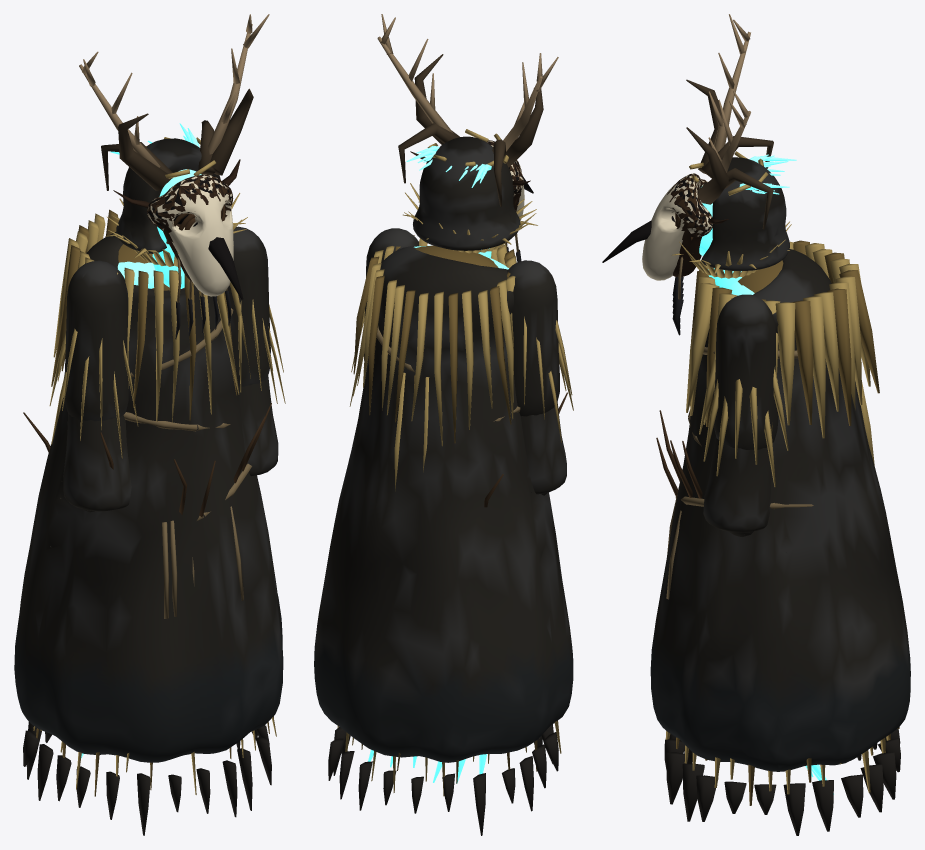
File: assombracao.glb
3 renders of one model, left to right at view 1: azimuth 30°, elevation 25°; view 2: azimuth 150°, elevation 25°; view 3: azimuth 270°, elevation 25°, orthographic. The views are drawn at different scales.
Visible parts, largest first — view 1: P_roupaManto, P_roupaPalha, P_mangaMantoR, P_maskBode, P_mangaBMantoR, P_mangaMantoL, P_maskDemonio, P_capuzManto, P_maskRaizes, P_mangaBMantoL, P_maskCorvo, P_mangaPalhaR (+4 smaller); view 2: P_roupaManto, P_roupaPalha, P_capuzManto, P_mangaMantoR, P_mangaBMantoR, P_maskRaizes, P_maskBode, P_maskDemonio, P_mangaPalhaR, P_mangaMantoL, P_neck, P_golaPalha; view 3: P_roupaManto, P_roupaPalha, P_mangaMantoL, P_capuzManto, P_mangaBMantoL, P_maskBode, P_maskDemonio, P_mangaPalhaL, P_maskRaizes, P_maskCorvo, P_neck, P_golaPalha.
Boxes of the visible parts, x1,y1,x2,y2 form: P_roupaManto: (14,232,283,835); P_roupaPalha: (33,209,276,796); P_mangaMantoR: (64,260,128,421); P_maskBode: (101,120,233,296); P_mangaBMantoR: (63,413,131,511); P_mangaMantoL: (227,226,270,386); P_maskDemonio: (113,88,253,282); P_capuzManto: (116,138,220,253); P_maskRaizes: (79,14,269,244); P_mangaBMantoL: (238,375,278,476); P_maskCorvo: (147,175,243,339); P_mangaPalhaR: (49,328,138,458); P_roupaManto: (314,246,573,835); P_roupaPalha: (337,235,561,796); P_capuzManto: (413,136,520,250); P_mangaMantoR: (507,260,559,416); P_mangaBMantoR: (521,402,566,494); P_maskRaizes: (377,14,558,205); P_maskBode: (398,123,524,220); P_maskDemonio: (410,54,543,211); P_mangaPalhaR: (523,316,573,442); P_mangaMantoL: (363,228,418,360); P_neck: (406,146,491,257); P_golaPalha: (403,183,537,253); P_roupaManto: (650,249,910,835); P_roupaPalha: (665,240,899,805); P_mangaMantoL: (714,294,778,449); P_capuzManto: (701,157,789,270); P_mangaBMantoL: (703,435,772,532); P_maskBode: (642,136,773,280); P_maskDemonio: (667,79,728,276); P_mangaPalhaL: (699,352,788,487); P_maskRaizes: (672,14,750,254); P_maskCorvo: (602,173,712,335); P_neck: (699,154,796,288); P_golaPalha: (672,221,791,278).
Bounding box in the file's own units: 0.742 × 2.34 × 0.8819.
